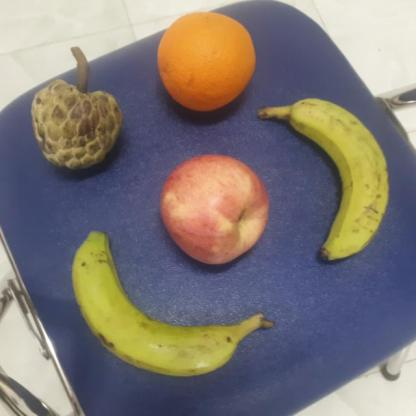annona: (28, 78, 128, 184)
apple: (156, 151, 280, 267)
banana: (68, 230, 275, 381), (254, 96, 394, 267)
orange: (152, 7, 258, 112)
